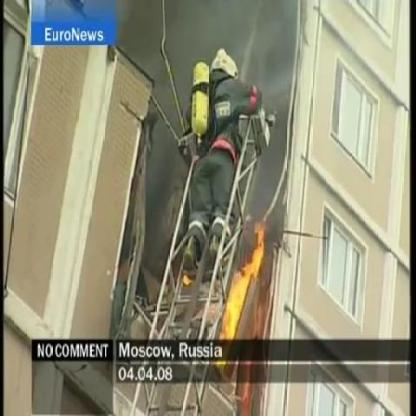fire: (221, 223, 270, 340), (180, 272, 194, 286)
